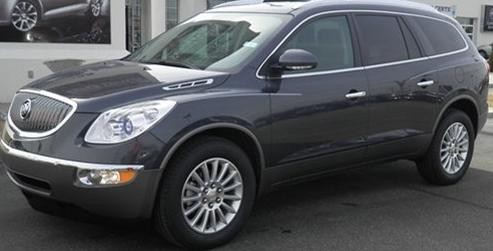front_view: (1, 74, 182, 224)
headlight: (77, 94, 181, 153)
side_glass: (253, 9, 470, 84)
